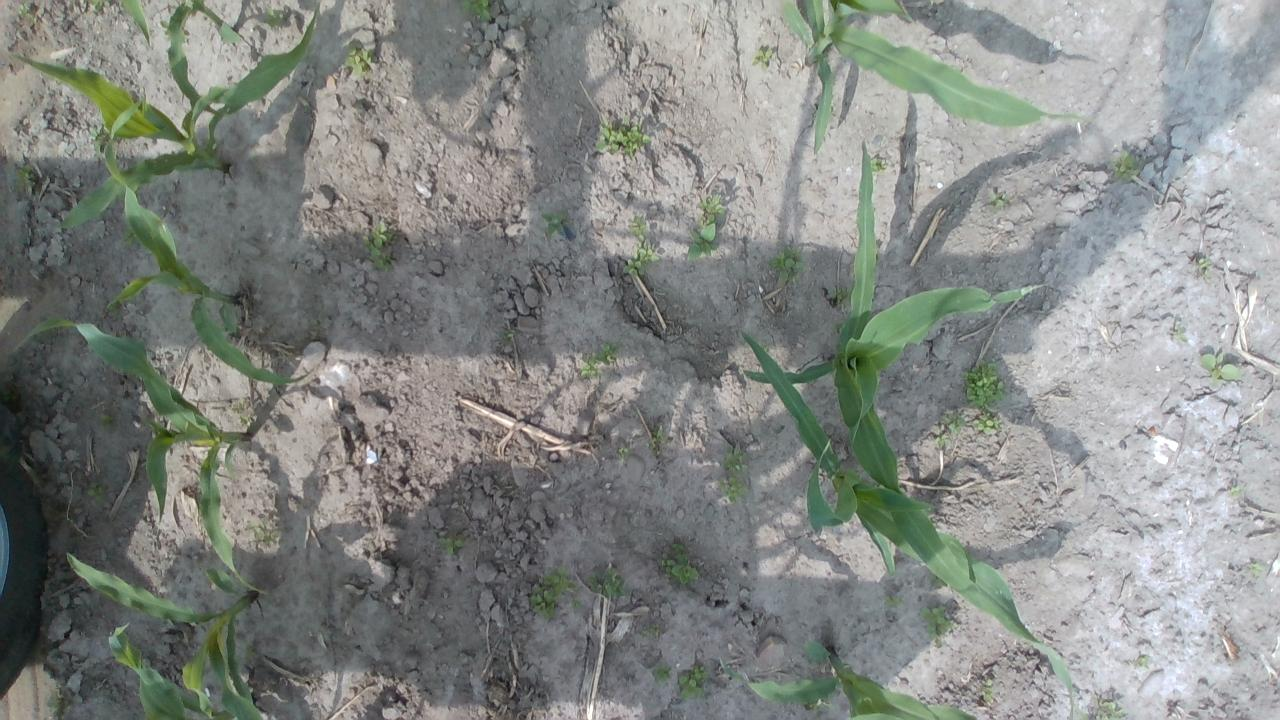Maize: (719, 325, 1081, 720), (749, 134, 1045, 580), (13, 318, 268, 594), (12, 0, 320, 219), (100, 94, 294, 386), (778, 0, 1092, 157), (59, 552, 268, 720), (732, 640, 982, 720), (104, 624, 266, 720), (115, 0, 245, 119)
Weeds: (530, 566, 582, 618), (960, 356, 1006, 413), (686, 193, 724, 259), (596, 114, 654, 157), (623, 216, 661, 276), (919, 604, 961, 648), (718, 444, 748, 502), (659, 543, 699, 585), (360, 221, 394, 270), (1200, 350, 1243, 386), (767, 244, 804, 284), (580, 341, 618, 378), (586, 567, 626, 598), (342, 38, 375, 75), (244, 518, 282, 546), (1110, 148, 1141, 181), (680, 665, 708, 701), (1090, 693, 1126, 720), (5, 162, 36, 191), (972, 411, 1004, 434), (938, 410, 967, 435), (459, 0, 492, 21), (437, 534, 469, 555), (540, 211, 563, 238), (826, 284, 854, 306), (88, 123, 106, 154), (262, 6, 288, 27), (232, 397, 252, 424), (751, 47, 773, 70), (1196, 257, 1216, 282), (930, 426, 953, 446), (987, 192, 1008, 213), (868, 154, 888, 174), (120, 226, 138, 248), (86, 483, 105, 502), (652, 664, 672, 682), (648, 424, 664, 446), (1171, 324, 1189, 343), (1248, 558, 1264, 578), (84, 0, 111, 11), (883, 595, 905, 608), (641, 624, 660, 638), (984, 678, 995, 702), (15, 2, 32, 17), (46, 696, 60, 711), (1230, 484, 1244, 497), (616, 446, 629, 460), (1135, 654, 1148, 666), (159, 19, 168, 35), (502, 329, 516, 338)
